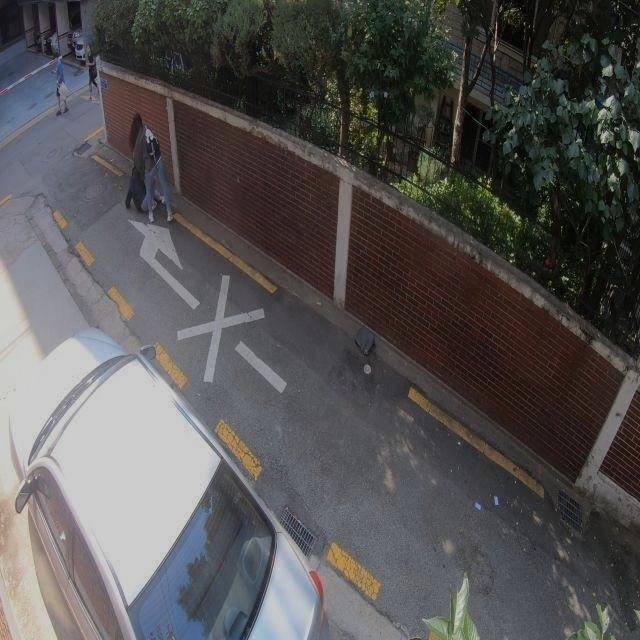fight: (122, 111, 173, 223)
